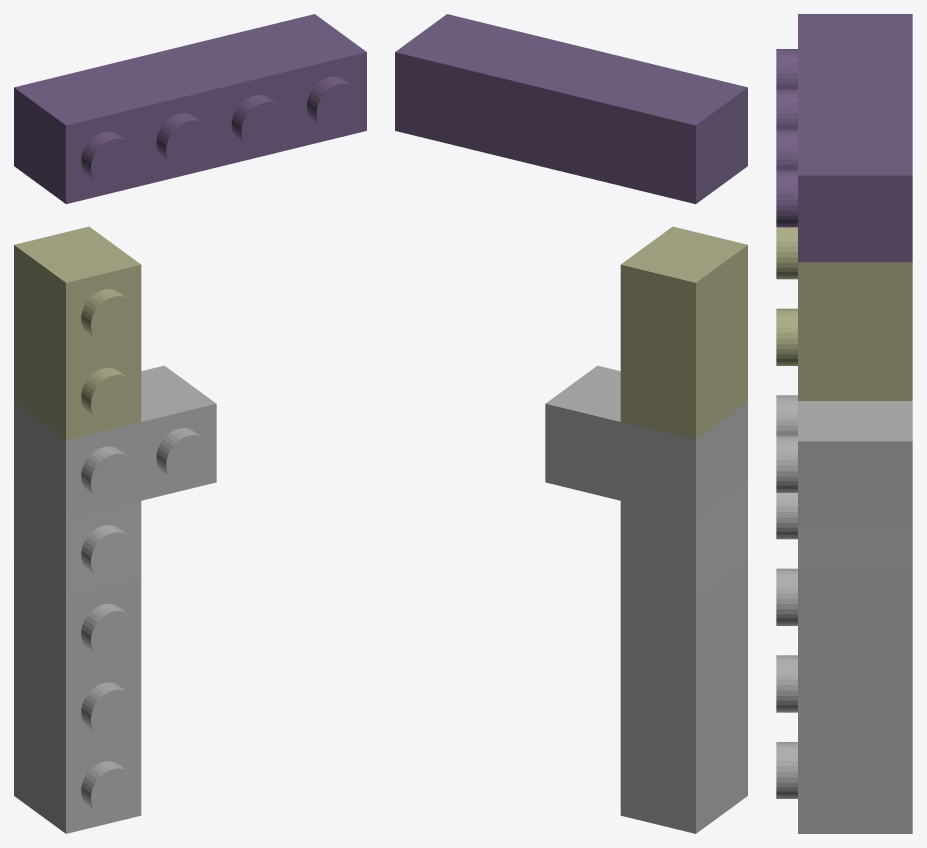
File: current.glb
The picture shows the model from 3 angles, left to right: view 1: azimuth 30°, elevation 25°; view 2: azimuth 150°, elevation 25°; view 3: azimuth 270°, elevation 25°; orthographic projection. The views are drawn at different scales.
Parts seen in each view (by area): view 1: world; view 2: world; view 3: world.
Part boxes in pixels (box(x1,y1,x2,y2)): world: box(14, 14, 366, 833); world: box(395, 14, 747, 833); world: box(776, 14, 912, 833).
Size of the model in its own units: 32 by 72 by 11.4.
